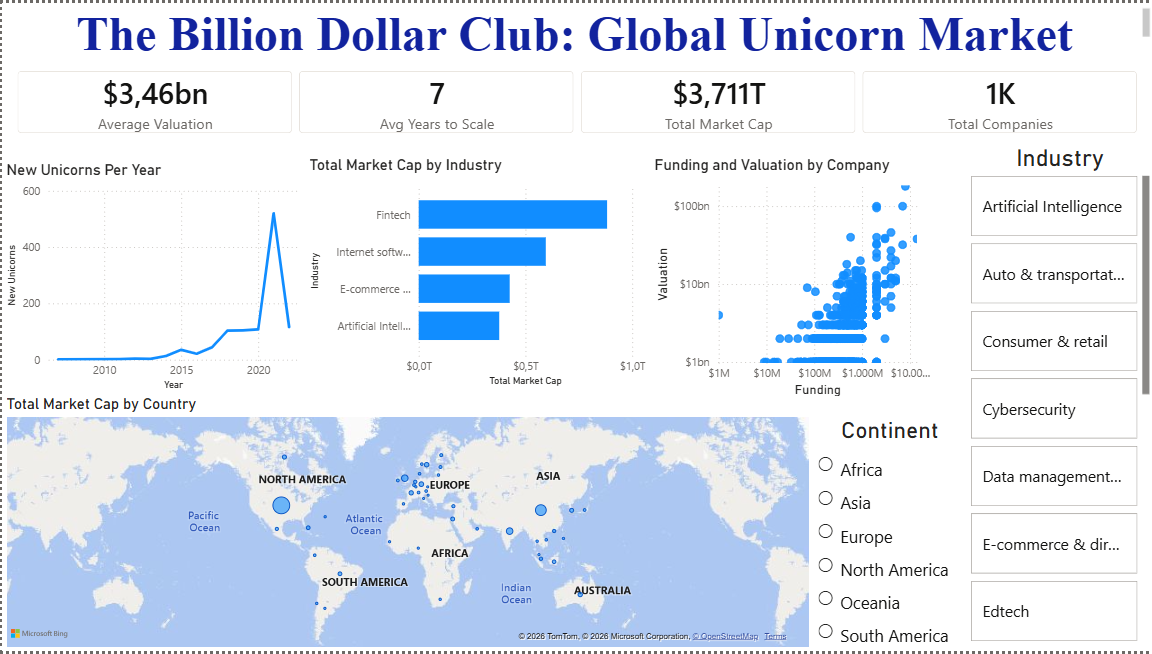

This screenshot's page, from the dashboard's own definition file:
{"tool":"powerbi","page":{"name":"Page 1","canvas":[1280,720],"ordinal":0},"visuals":[{"type":"cardVisual","fields":{"Data":["_Key Measures.Average Valuation","_Key Measures.Avg Years to Scale","_Key Measures.Total Market Cap","_Key Measures.Unicorn Count"]},"box":[0,58.3,1280,103.3],"z":0},{"type":"lineChart","title":"New Unicorns Per Year","fields":{"Category":["Unicorn_Companies csv.Date Joined.Variation.Date Hierarchy.Year"],"Y":["CountNonNull(Unicorn_Companies csv.Company)"]},"box":[0,175,336.7,260],"z":1000},{"type":"clusteredBarChart","fields":{"Category":["Unicorn_Companies csv.Industry"],"Y":["_Key Measures.Total Market Cap"]},"box":[336.7,170,383.3,260],"z":2000},{"type":"map","fields":{"Category":["Unicorn_Companies csv.Country"],"Size":["_Key Measures.Total Market Cap"]},"box":[0,435,901.7,285],"z":3000},{"type":"scatterChart","fields":{"X":["Sum(Unicorn_Companies csv.Cleaned Funding)"],"Y":["Sum(Unicorn_Companies csv.Cleaned Valuation)"],"Category":["Unicorn_Companies csv.Company"]},"box":[720,170,328.3,271.7],"z":4000},{"type":"textbox","box":[0,0,1280,71.7],"z":5000},{"type":"listSlicer","fields":{"Values":["Unicorn_Companies csv.Continent"]},"box":[901.7,460,170,260],"z":6000},{"type":"advancedSlicerVisual","fields":{"Values":["Unicorn_Companies csv.Industry"]},"box":[1071.7,156.7,208.3,563.3],"z":7000}]}

Visuals, with their boxes in screenshot pixels (x1, y1, x2, y2), scaled from the page's 1280x720 canvas onto the 1152x654 screenshot:
cardVisual - _Key Measures.Average Valuation x _Key Measures.Avg Years to Scale: locate(0, 53, 1151, 147)
"New Unicorns Per Year" lineChart: locate(0, 159, 303, 395)
clusteredBarChart - Unicorn_Companies csv.Industry x _Key Measures.Total Market Cap: locate(303, 154, 648, 391)
map - Unicorn_Companies csv.Country x _Key Measures.Total Market Cap: locate(0, 395, 812, 653)
scatterChart - Sum(Unicorn_Companies csv.Cleaned Funding) x Sum(Unicorn_Companies csv.Cleaned Valuation): locate(648, 154, 943, 401)
textbox: locate(0, 0, 1151, 65)
listSlicer - Unicorn_Companies csv.Continent: locate(812, 418, 965, 653)
advancedSlicerVisual - Unicorn_Companies csv.Industry: locate(965, 142, 1151, 653)
